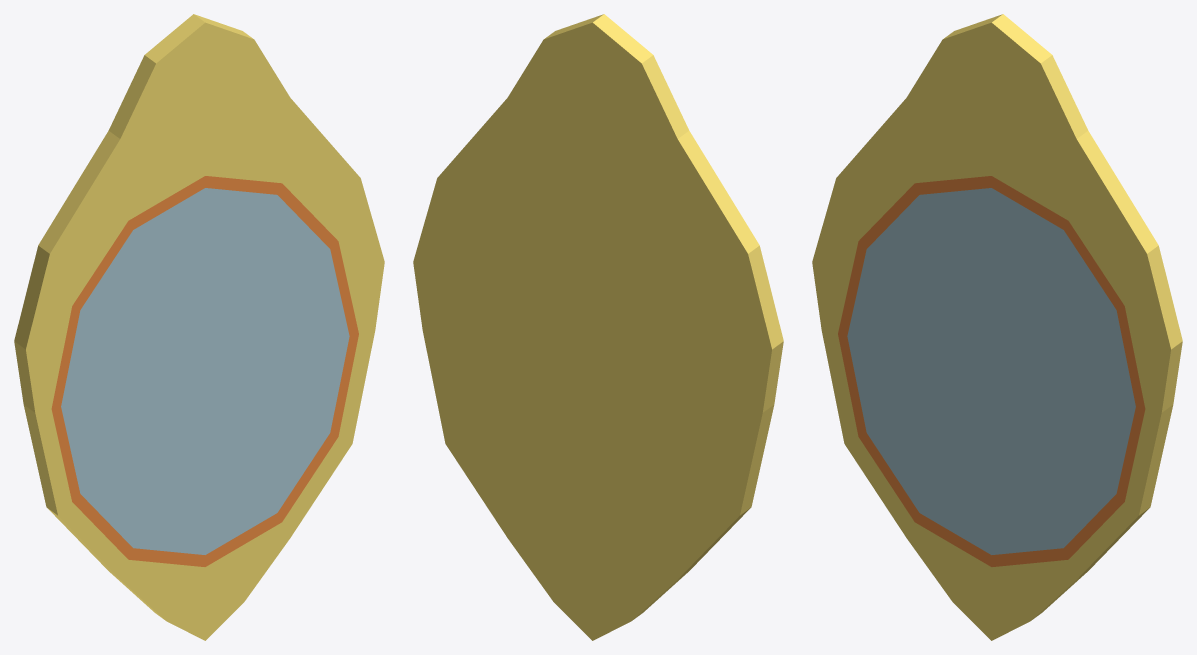
The model's file is Mirror_3.fbx.
The picture shows the model from 3 angles, left to right: view 1: azimuth 30°, elevation 25°; view 2: azimuth 150°, elevation 25°; view 3: azimuth 330°, elevation 25°; orthographic projection.
Parts seen in each view (by area): view 1: Mirror_3; view 2: Mirror_3; view 3: Mirror_3.
Part boxes in pixels (x1=…): Mirror_3: x1=14, y1=14, x2=384, y2=640; Mirror_3: x1=413, y1=14, x2=783, y2=640; Mirror_3: x1=812, y1=14, x2=1182, y2=640.
Size of the model in its own units: 34 by 1.92 by 55.98.
